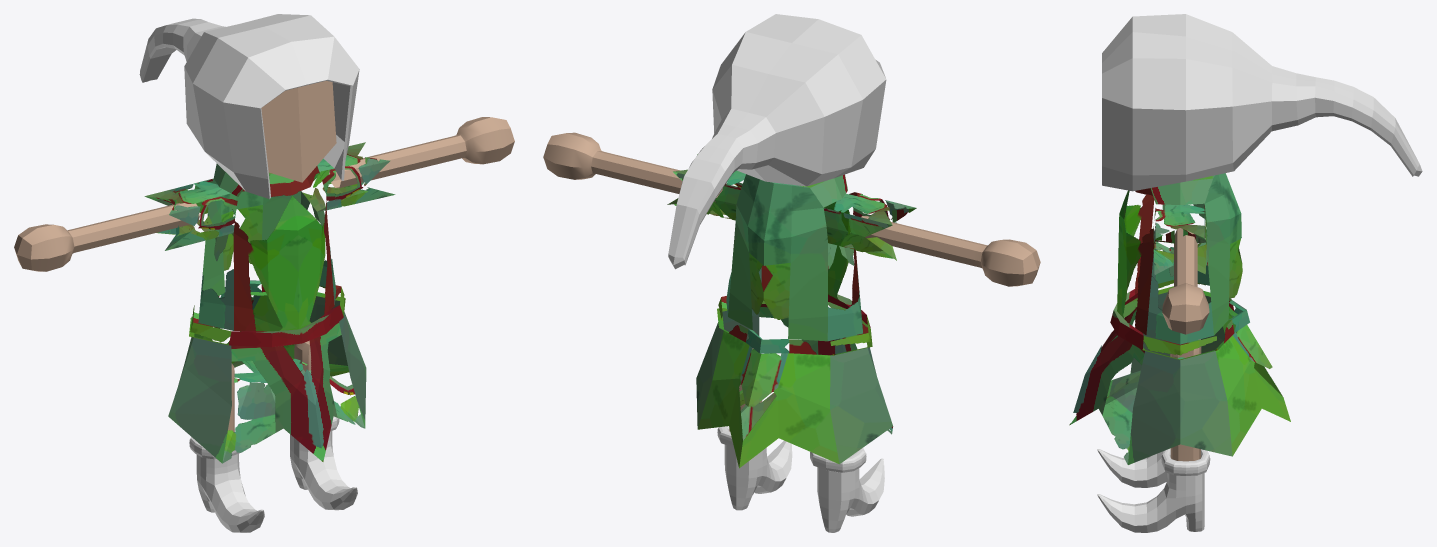
File: Character.fbx
3 renders of one model, left to right at view 1: azimuth 30°, elevation 25°; view 2: azimuth 150°, elevation 25°; view 3: azimuth 270°, elevation 25°, orthographic.
Parts seen in each view (by area): view 1: Torso, Hat, Face, Boots; view 2: Torso, Hat, Face, Boots; view 3: Torso, Hat, Boots, Face.
Boxes of the visible parts, left/top/right/bottom form: Torso: left=144, top=142, right=395, bottom=463; Hat: left=139, top=14, right=359, bottom=198; Face: left=14, top=80, right=514, bottom=432; Boots: left=189, top=416, right=357, bottom=532; Torso: left=667, top=154, right=916, bottom=468; Hat: left=668, top=14, right=886, bottom=269; Face: left=543, top=132, right=1040, bottom=431; Boots: left=717, top=426, right=884, bottom=532; Torso: left=1069, top=173, right=1290, bottom=464; Hat: left=1102, top=14, right=1422, bottom=191; Boots: left=1097, top=448, right=1210, bottom=532; Face: left=1162, top=228, right=1209, bottom=461.
Size of the model in its own units: 335 by 311 by 209.
4 materials, 1 textured.
